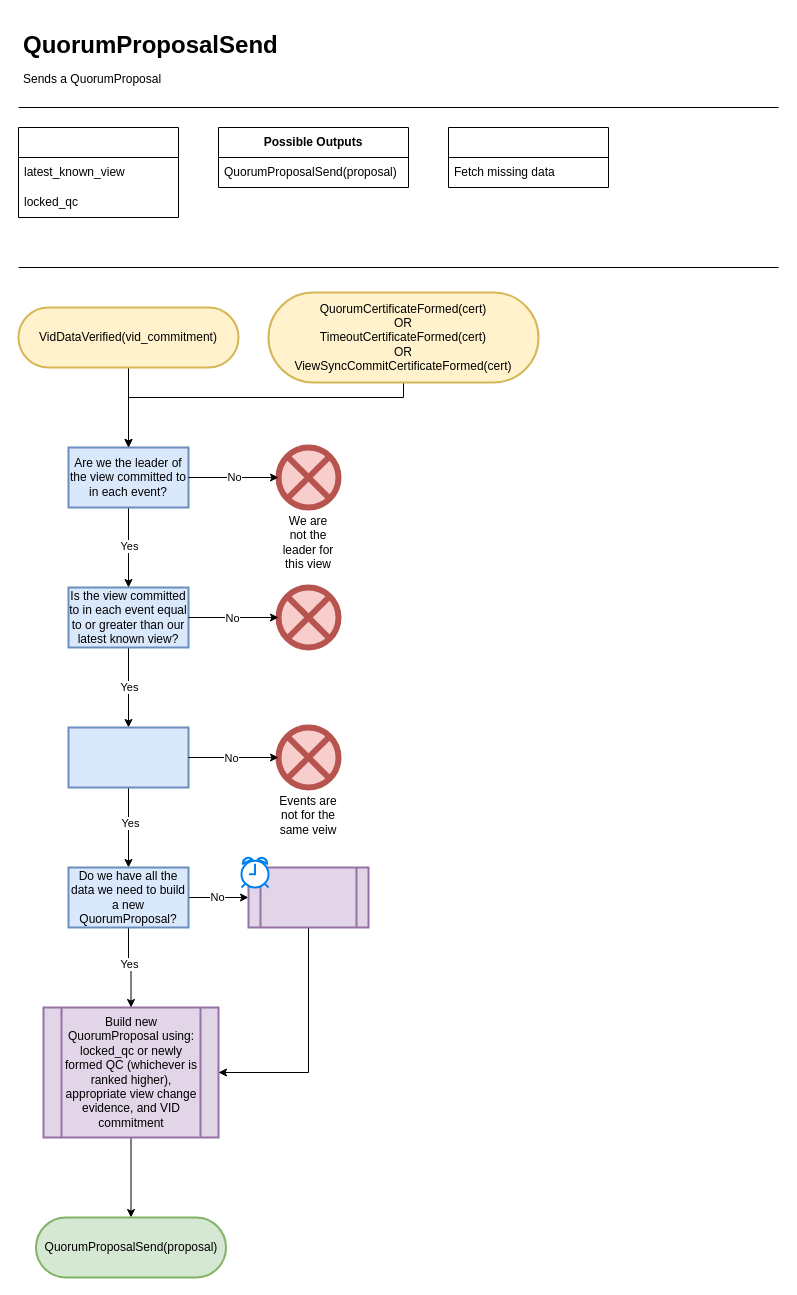
Image size: 797x1295. Some labels were removed from this diagram. The shapes that lost their labels are listed below. From the top down, each one's box as (x1, y1, x2, y2) in pixels, then its label:
(18, 126, 178, 218): Global Storage Accessed
(448, 126, 608, 188): Possible Spawning Tasks
(275, 584, 341, 650): Events are too old; already in a higher view
(67, 726, 189, 788): Are all events for the same view?
(247, 866, 369, 928): Fetch and await missing data
